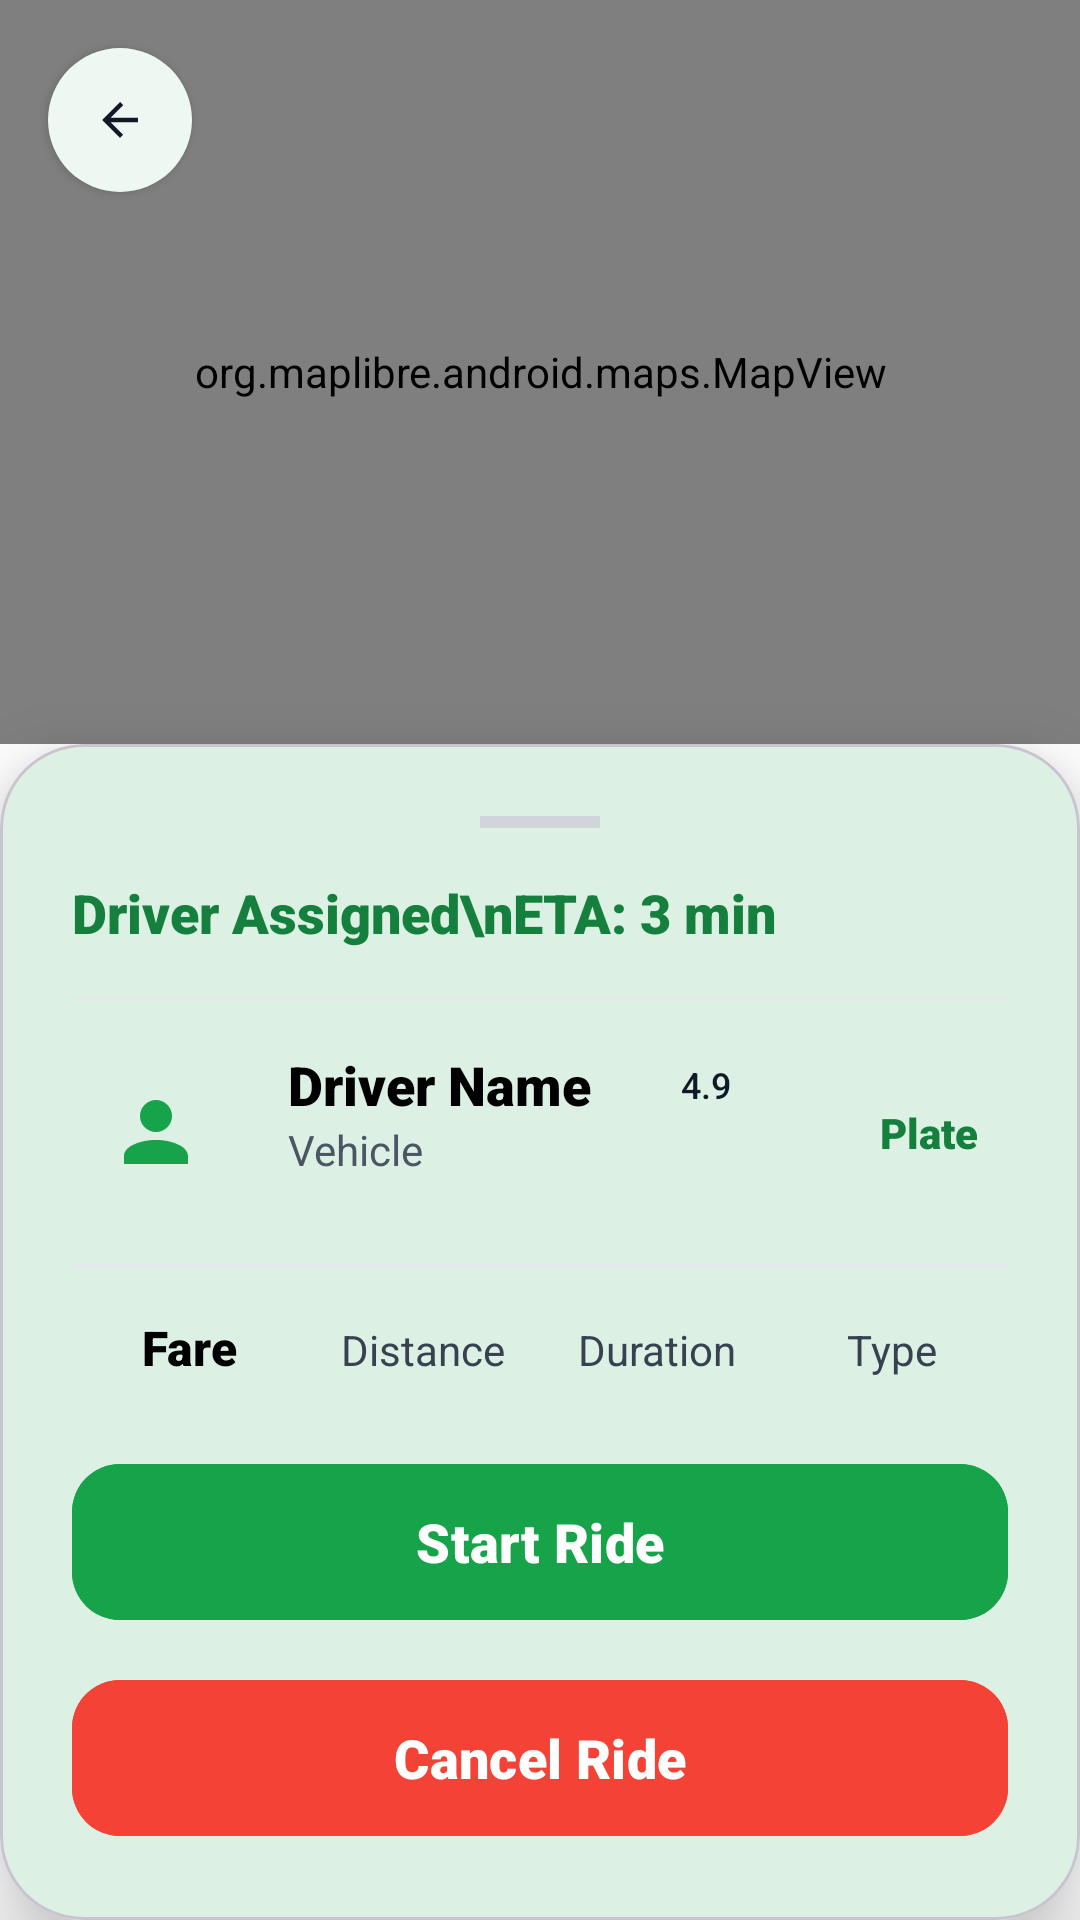

Named icons in this screenshot (1080*1920) and their bounding boxes, (x1, y1, x2, y2):
arrow back: (48, 48, 192, 192)
person: (124, 1100, 188, 1164)
